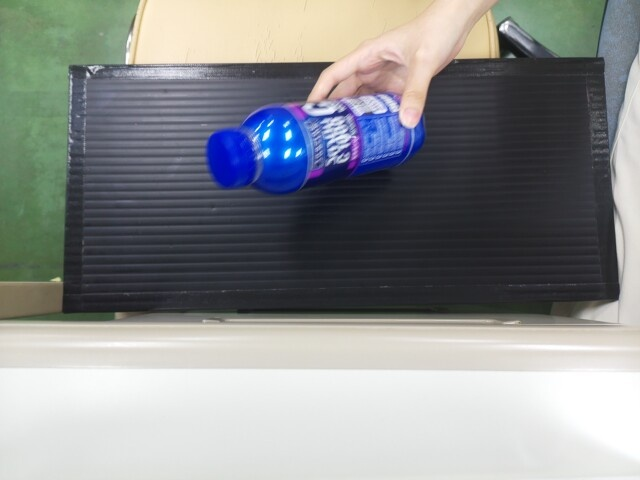plastic_bottle: (202, 103, 404, 189)
